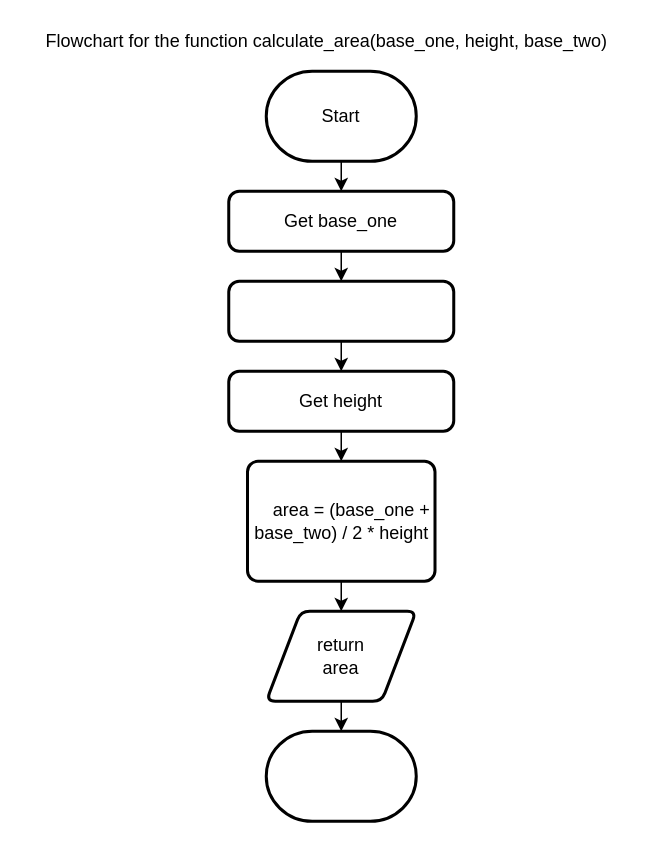
Some shapes in this 651 by 848 pixel diagram are drawn without their labels. Each missing label, with the box of its shape:
Get base_two: (226, 279, 454, 342)
Stop: (264, 729, 417, 822)
